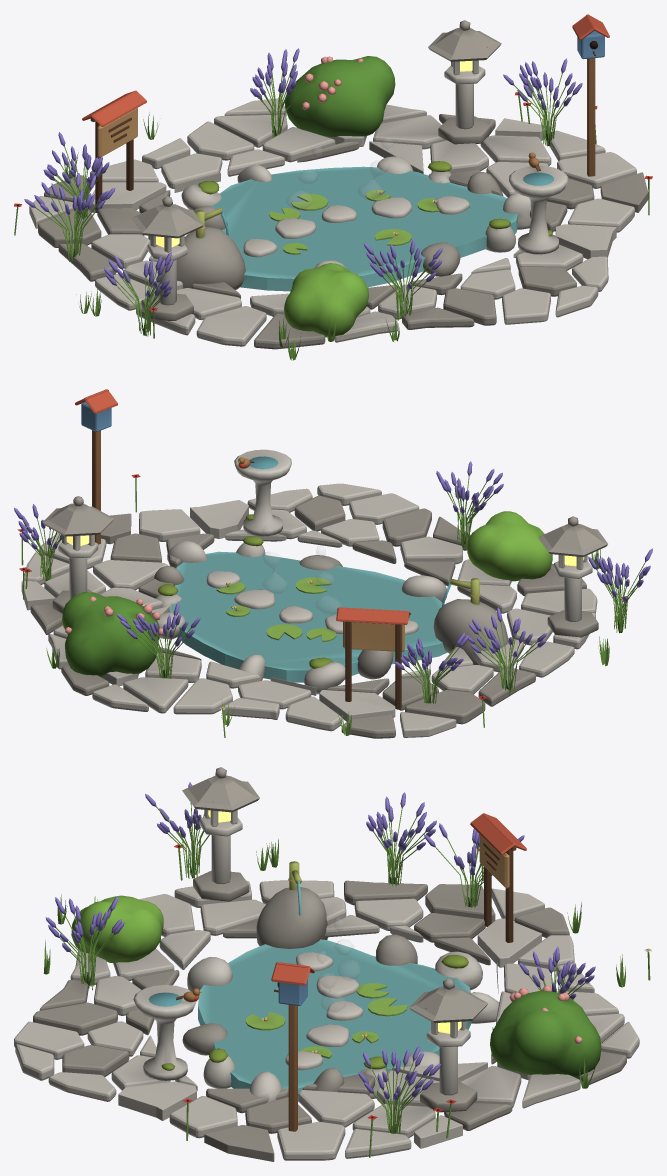
The model's file is source_chaude.glb.
3 views of the same model, one above another, from view 1: azimuth 30°, elevation 25°; view 2: azimuth 150°, elevation 25°; view 3: azimuth 270°, elevation 25° (orthographic). The views are drawn at different scales.
Visible parts, largest first — view 1: source-chaude:pierre, source-chaude:pierre-sombre, source-chaude:eau-source, source-chaude:feuillage-sombre, source-chaude:lavande, source-chaude:brin, source-chaude:feuillage, source-chaude:feuillage-clair, source-chaude:tuile, source-chaude:vapeur, source-chaude:bois, source-chaude:bois-clair (+3 smaller); view 2: source-chaude:pierre, source-chaude:pierre-sombre, source-chaude:eau-source, source-chaude:feuillage-sombre, source-chaude:brin, source-chaude:lavande, source-chaude:feuillage, source-chaude:feuillage-clair, source-chaude:tuile, source-chaude:bois-clair, source-chaude:vapeur, source-chaude:bois-sombre (+3 smaller); view 3: source-chaude:pierre, source-chaude:pierre-sombre, source-chaude:eau-source, source-chaude:feuillage-sombre, source-chaude:brin, source-chaude:lavande, source-chaude:feuillage, source-chaude:feuillage-clair, source-chaude:tuile, source-chaude:bois, source-chaude:bois-sombre, source-chaude:vapeur (+3 smaller).
Part boxes in pixels (box(x1,y1,x2,y2)): source-chaude:pierre: box(29, 60, 636, 346); source-chaude:pierre-sombre: box(38, 20, 648, 349); source-chaude:eau-source: box(211, 166, 518, 291); source-chaude:feuillage-sombre: box(69, 56, 553, 335); source-chaude:lavande: box(24, 48, 582, 298); source-chaude:brin: box(14, 62, 649, 360); source-chaude:feuillage: box(284, 263, 368, 337); source-chaude:feuillage-clair: box(269, 190, 439, 254); source-chaude:tuile: box(82, 14, 609, 126); source-chaude:vapeur: box(286, 137, 393, 209); source-chaude:bois: box(528, 58, 595, 176); source-chaude:bois-clair: box(97, 108, 205, 229); source-chaude:pierre: box(21, 449, 597, 737); source-chaude:pierre-sombre: box(30, 495, 607, 738); source-chaude:eau-source: box(169, 551, 447, 682); source-chaude:feuillage-sombre: box(45, 533, 624, 703); source-chaude:brin: box(21, 476, 645, 737); source-chaude:lavande: box(14, 461, 652, 671); source-chaude:feuillage: box(467, 511, 552, 581); source-chaude:feuillage-clair: box(216, 577, 336, 641); source-chaude:tuile: box(75, 389, 410, 624); source-chaude:bois-clair: box(343, 593, 480, 651); source-chaude:vapeur: box(262, 527, 341, 614); source-chaude:bois-sombre: box(250, 460, 409, 709); source-chaude:pierre: box(14, 810, 639, 1160); source-chaude:pierre-sombre: box(33, 767, 626, 1161); source-chaude:eau-source: box(198, 939, 471, 1101); source-chaude:feuillage-sombre: box(83, 861, 601, 1133); source-chaude:brin: box(43, 803, 650, 1157); source-chaude:lavande: box(45, 782, 595, 1100); source-chaude:feuillage: box(71, 895, 163, 963); source-chaude:feuillage-clair: box(245, 983, 407, 1058); source-chaude:tuile: box(271, 813, 526, 985); source-chaude:bois: box(183, 988, 297, 1131); source-chaude:bois-sombre: box(176, 842, 516, 1000); source-chaude:vapeur: box(317, 917, 360, 1012).
Size of the model in its own units: 6.35 by 1.85 by 5.75.
